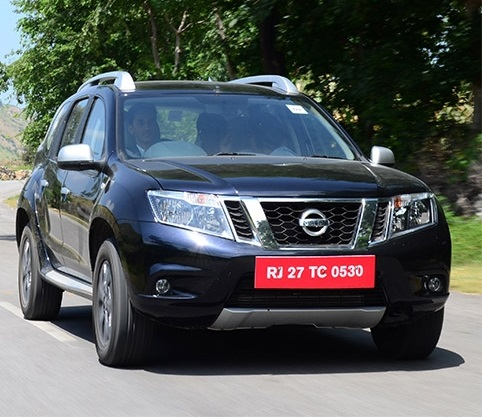RJ27TC0530: (254, 255, 375, 288)
